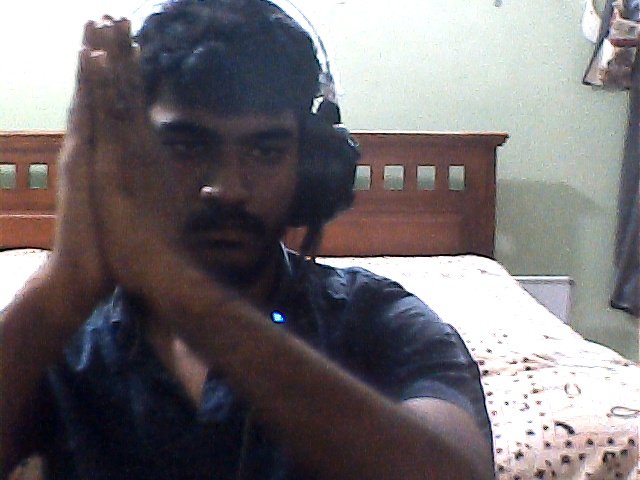Sign: (53, 10, 192, 304)
